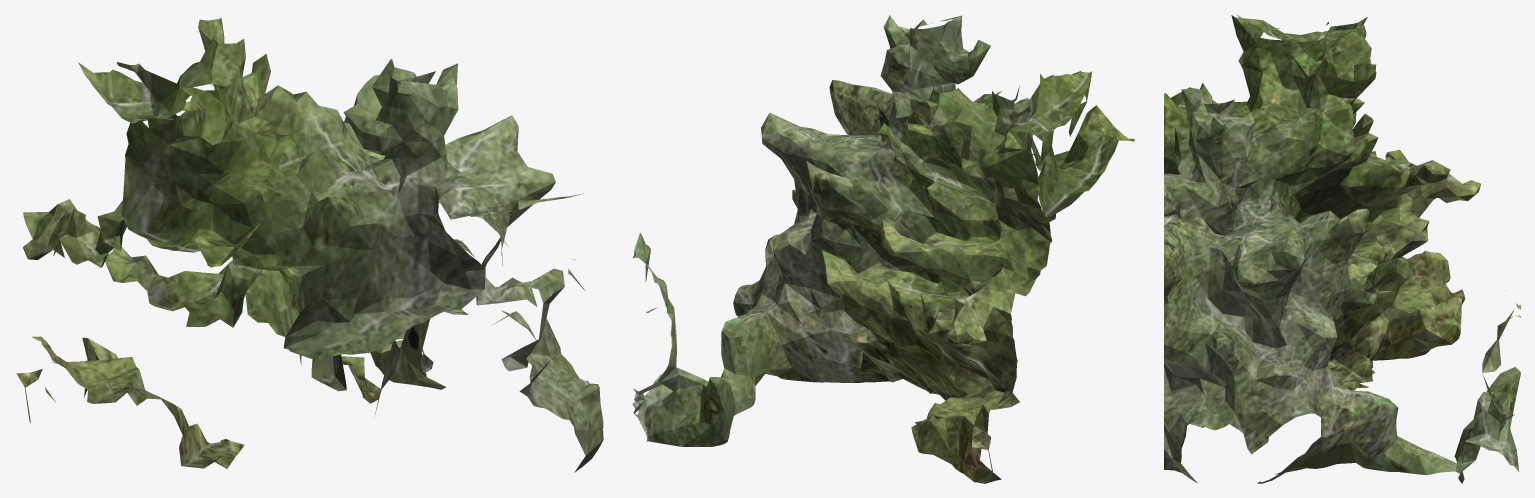
3 views of the same model, side by side, from view 1: azimuth 30°, elevation 25°; view 2: azimuth 150°, elevation 25°; view 3: azimuth 270°, elevation 25° (orthographic). The views are drawn at different scales.
Bounding box in the file's own units: 5.9 × 5.9 × 5.9.
7 materials, 7 textured.
